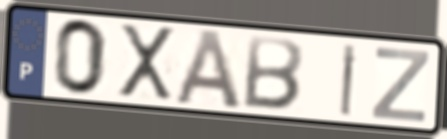0: (49, 18, 114, 98)
A: (172, 27, 245, 112)
B: (239, 33, 306, 114)
I: (338, 41, 360, 119)
X: (117, 22, 176, 103)
Z: (368, 45, 432, 125)
